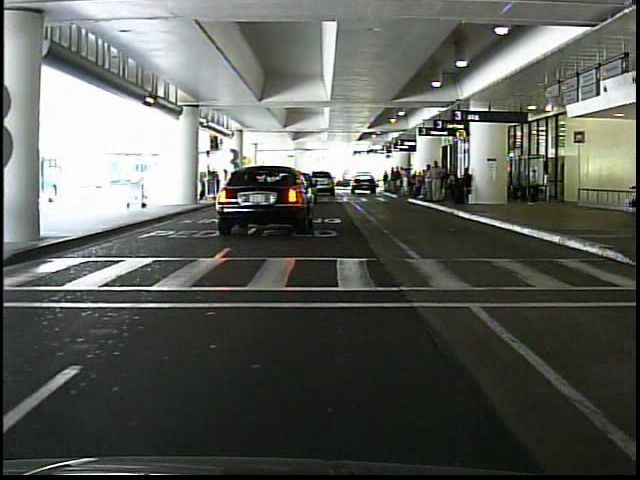person: (427, 156, 448, 208), (134, 165, 155, 211)
